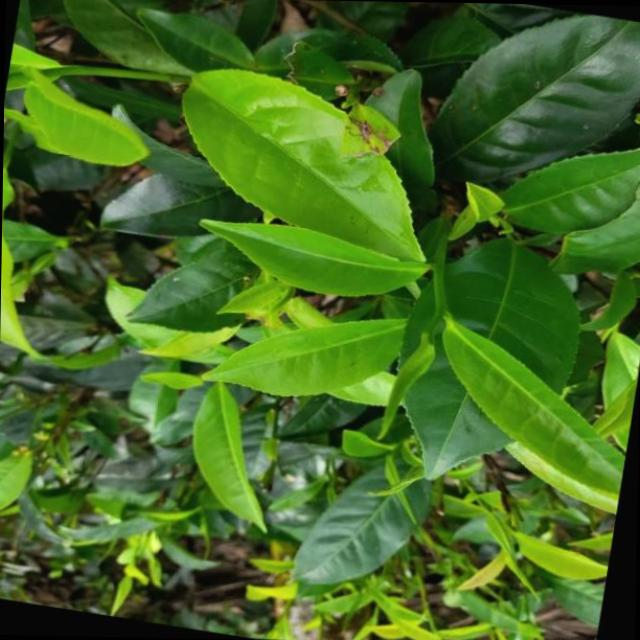Stem: (435, 301, 446, 315)
